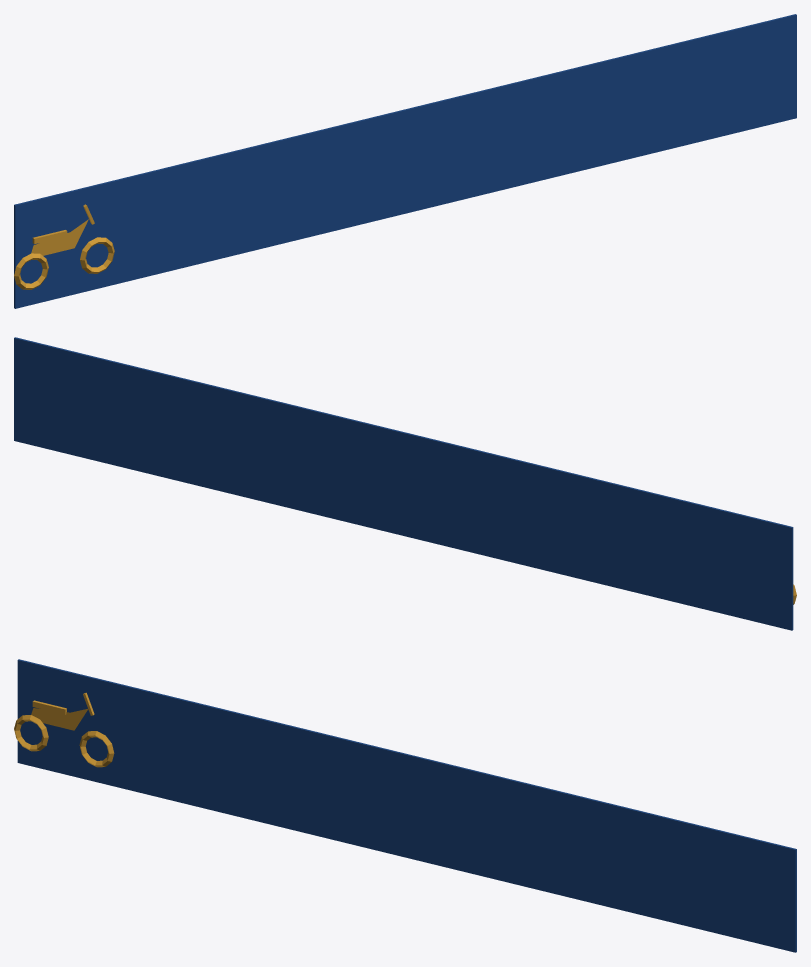
File: bang_giu_xe_60.glb
3 views of the same model, one above another, from view 1: azimuth 30°, elevation 25°; view 2: azimuth 150°, elevation 25°; view 3: azimuth 330°, elevation 25° (orthographic).
Parts seen in each view (by area): view 1: bang_giu_xe_60; view 2: bang_giu_xe_60; view 3: bang_giu_xe_60.
Part boxes in pixels (bbox=[...]): bang_giu_xe_60: bbox=[14, 14, 796, 308]; bang_giu_xe_60: bbox=[14, 337, 796, 630]; bang_giu_xe_60: bbox=[14, 659, 796, 952].
Bounding box in the file's own units: 5.72 × 0.72 × 0.0525.
